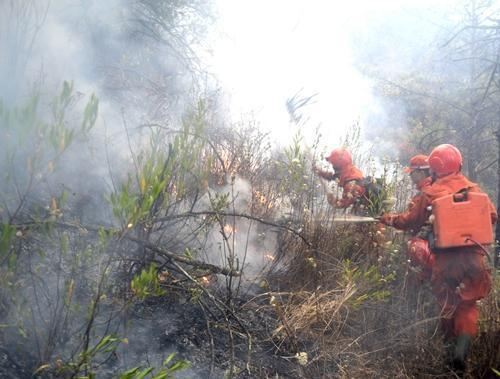fire: (185, 183, 286, 270)
